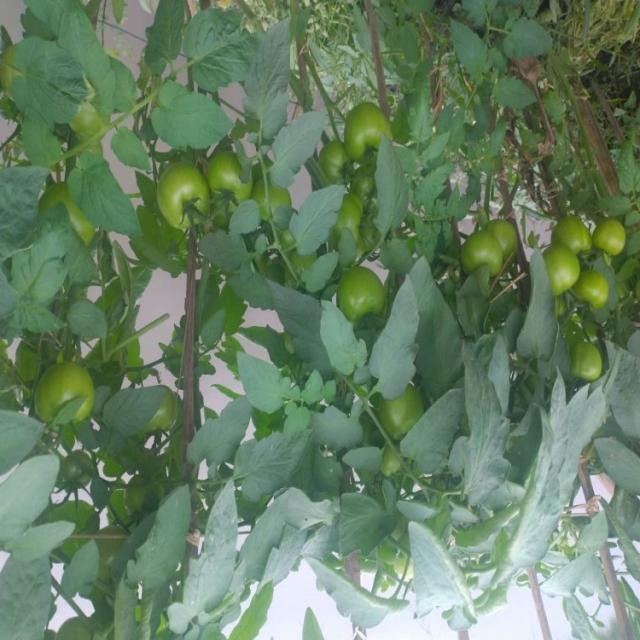tomato: (158, 148, 205, 234), (35, 362, 98, 424), (211, 136, 261, 206), (547, 203, 599, 265), (568, 340, 619, 401), (351, 89, 388, 165), (453, 227, 503, 280), (344, 265, 392, 317), (484, 214, 529, 261), (599, 207, 637, 262), (544, 249, 587, 295), (387, 389, 425, 434), (578, 265, 605, 323), (353, 174, 379, 202), (327, 145, 351, 174)
